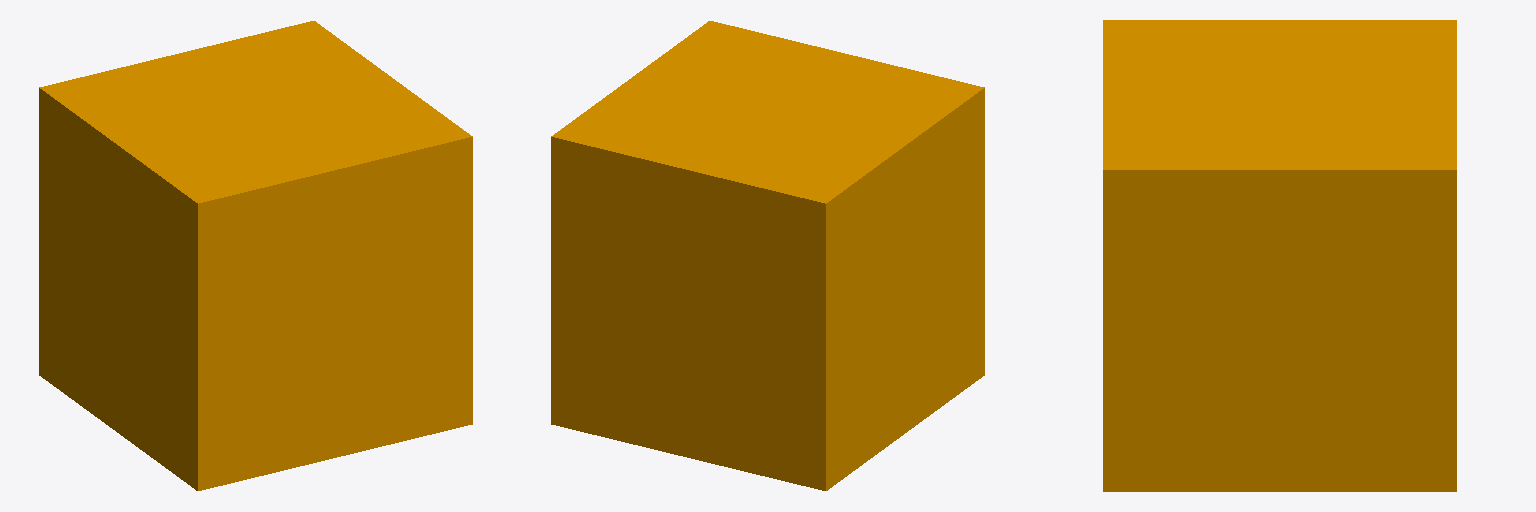
The robot description file, URDF, robot "largebox":
<?xml version="1.0"?>
<robot name="largebox">
  <link name="largebox_link">
    <inertial>
      <mass value="0.1"/>
      <origin xyz="0 0 0"/>
      <inertia ixx="0.002" ixy="0" ixz="0"
               iyy="0.002" iyz="0" izz="0.002"/>
    </inertial>
    <visual>
      <geometry><mesh filename="largebox.obj"/></geometry>
    </visual>
    <collision name="largebox">
      <geometry><mesh filename="largebox.obj"/></geometry>
    </collision>
  </link>
</robot>

--- Render facts (derived) ---
Views: 3 orthographic renders of the robot side by side, from view 1: azimuth 30°, elevation 25°; view 2: azimuth 150°, elevation 25°; view 3: azimuth 270°, elevation 25°.
Model largebox with 1 links and 0 joints (none), rooted at largebox_link, posed every joint at zero.
Visible links, largest first — view 1: largebox_link; view 2: largebox_link; view 3: largebox_link.
Boxes of the visible links, x1,y1,x2,y2 form: largebox_link: (39,21,472,490); largebox_link: (551,21,984,490); largebox_link: (1103,20,1456,491).
Size in the robot's own frame: 0.3 by 0.3 by 0.3 metres.
Meshes: 1 distinct files referenced, 1 mesh visuals loaded (1 OBJ).
